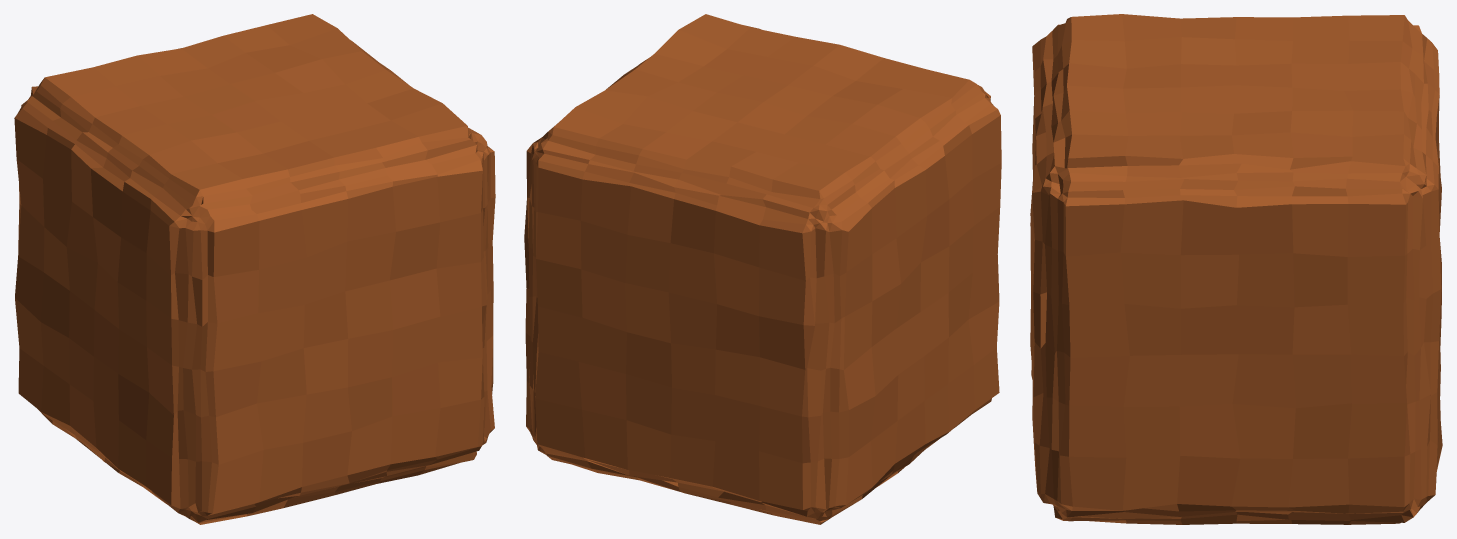
Rendered from rock0.fbx.
The picture shows the model from 3 angles, left to right: view 1: azimuth 30°, elevation 25°; view 2: azimuth 150°, elevation 25°; view 3: azimuth 270°, elevation 25°; orthographic projection. The views are drawn at different scales.
Parts seen in each view (by area): view 1: Cube; view 2: Cube; view 3: Cube.
Boxes of the visible parts, x1=… form: Cube: x1=14, y1=14, x2=495, y2=524; Cube: x1=524, y1=14, x2=1001, y2=524; Cube: x1=1030, y1=14, x2=1442, y2=524.
Bounding box in the file's own units: 205 × 204 × 204.
